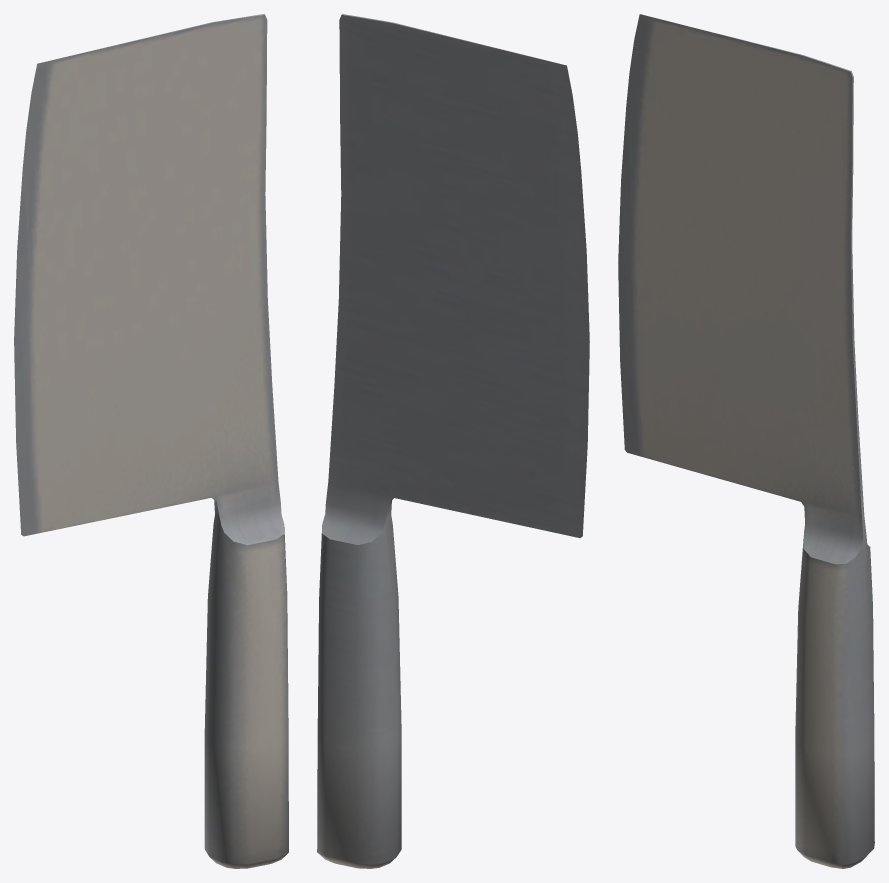
The model's file is SM_Knife_05.glb.
3 views of the same model, side by side, from view 1: azimuth 30°, elevation 25°; view 2: azimuth 150°, elevation 25°; view 3: azimuth 330°, elevation 25° (orthographic). The views are drawn at different scales.
Parts seen in each view (by area): view 1: SM_Knife_05; view 2: SM_Knife_05; view 3: SM_Knife_05.
Part boxes in pixels (bbox=[...]): SM_Knife_05: bbox=[14, 14, 288, 868]; SM_Knife_05: bbox=[317, 14, 589, 868]; SM_Knife_05: bbox=[618, 14, 874, 868].
Bounding box in the file's own units: 0.109 × 0.3327 × 0.0253.
Materials: 1 (1 with a texture image).
